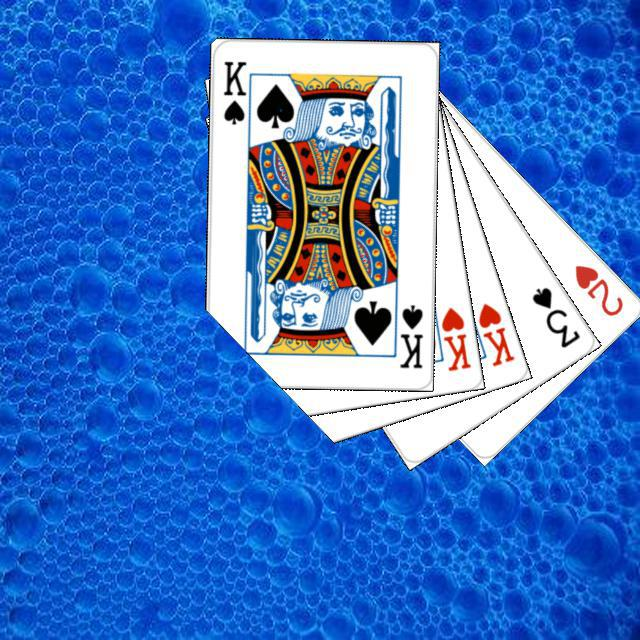2h: (569, 259, 625, 318)
3s: (526, 282, 582, 350)
Kh: (461, 297, 516, 368), (427, 298, 473, 373)
Ks: (218, 56, 253, 132), (395, 300, 425, 370)
